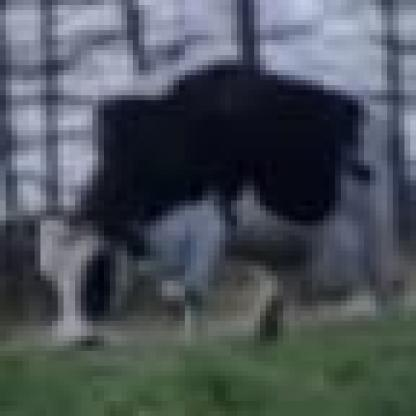cow: (34, 65, 416, 355)
